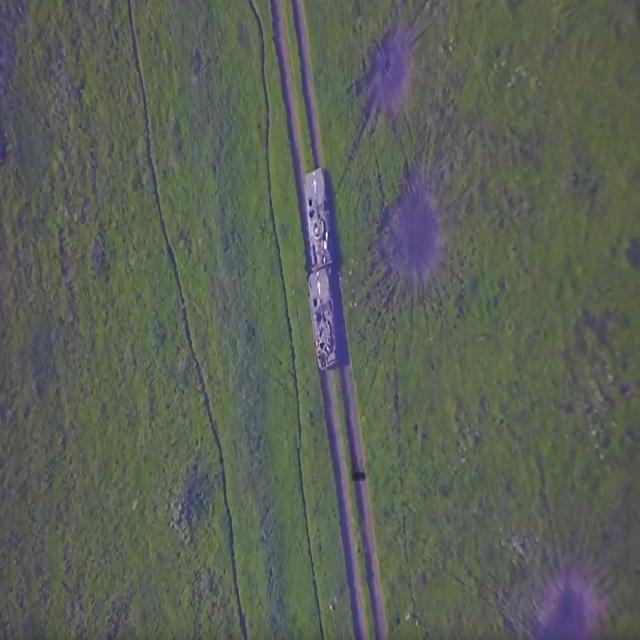AIFV: (306, 268, 343, 378), (302, 164, 337, 273)
